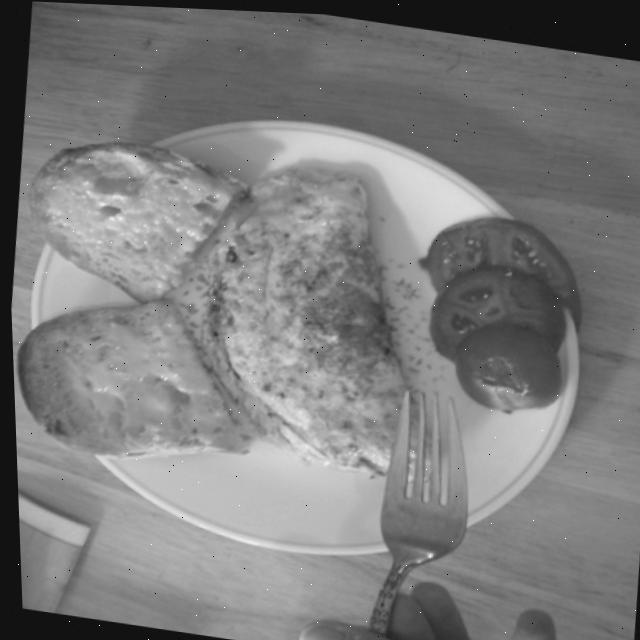鸡蛋料理: (177, 129, 441, 501)
